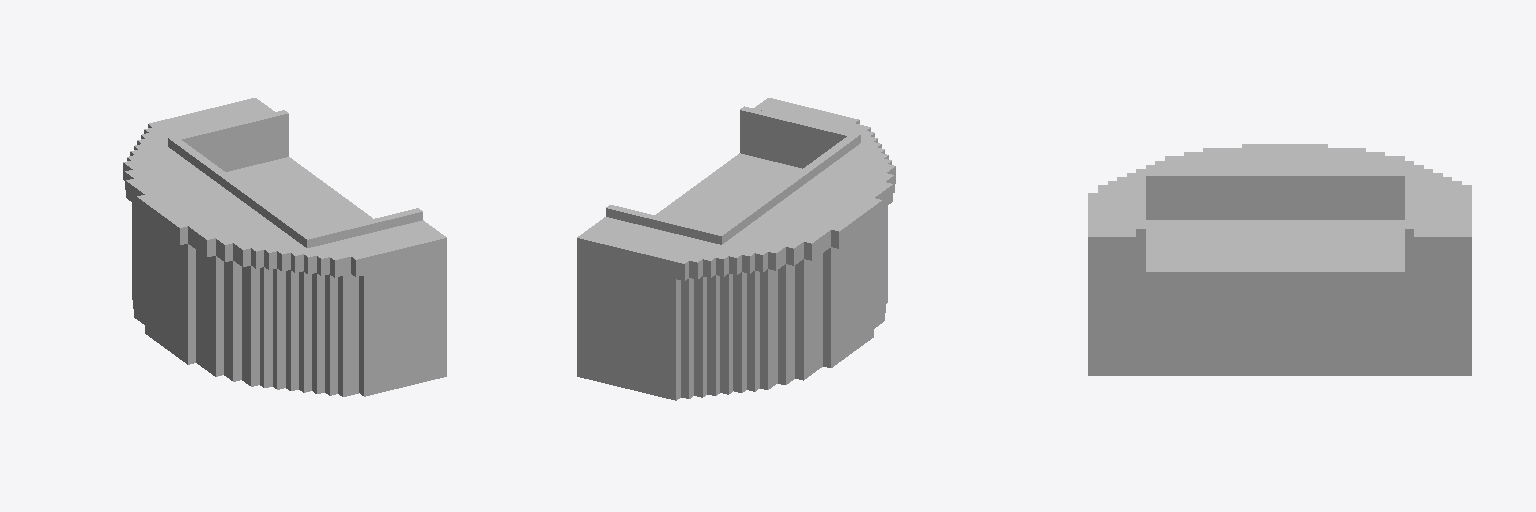
The model's file is Desk.obj.
3 renders of one model, left to right at view 1: azimuth 30°, elevation 25°; view 2: azimuth 150°, elevation 25°; view 3: azimuth 270°, elevation 25°, orthographic.
Visible parts, largest first — view 1: object 1; view 2: object 1; view 3: object 1.
Part boxes in pixels (bbox=[...]): object 1: bbox=[123, 98, 446, 396]; object 1: bbox=[577, 98, 895, 400]; object 1: bbox=[1088, 144, 1471, 375].
Size of the model in its own units: 2.3 by 1.7 by 4.